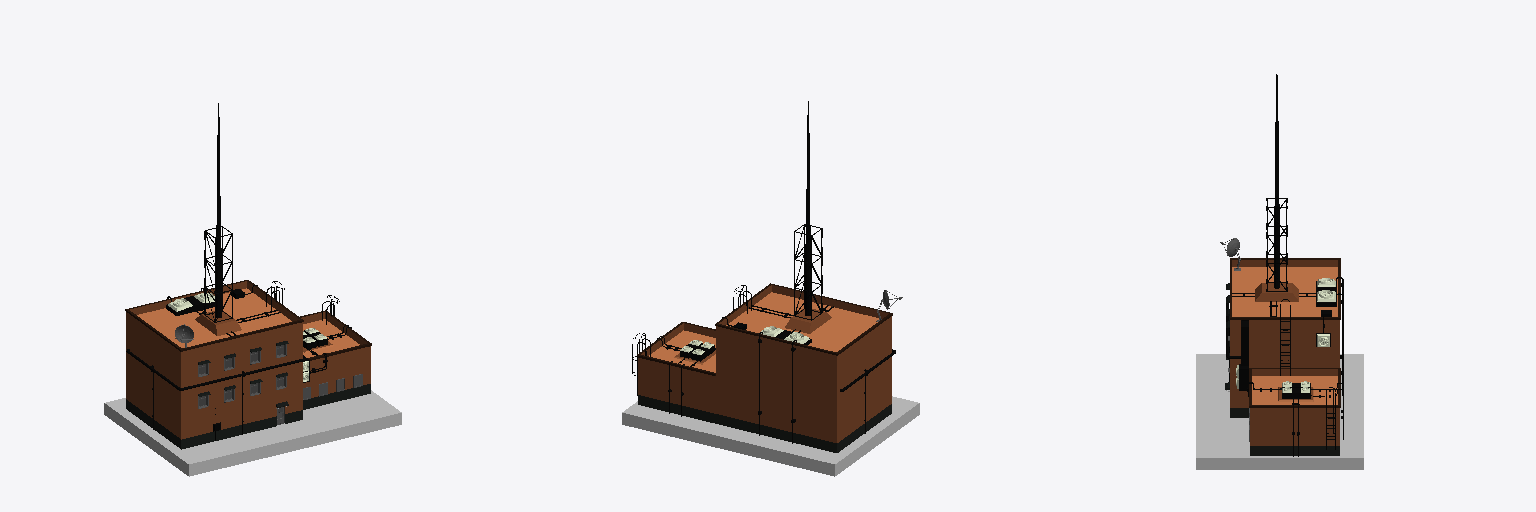
Rendered from edificiofuturista.obj.
3 views of the same model, side by side, from view 1: azimuth 30°, elevation 25°; view 2: azimuth 150°, elevation 25°; view 3: azimuth 270°, elevation 25° (orthographic).
Visible parts, largest first — view 1: Plane, Plane.020, Plane.022; view 2: Plane, Plane.020, Plane.022; view 3: Plane, Plane.020, Plane.022.
Boxes of the visible parts, x1=… form: Plane: x1=125, y1=280, x2=371, y2=449; Plane.020: x1=104, y1=390, x2=401, y2=476; Plane.022: x1=126, y1=103, x2=351, y2=440; Plane: x1=637, y1=283, x2=892, y2=452; Plane.020: x1=622, y1=396, x2=919, y2=476; Plane.022: x1=656, y1=101, x2=895, y2=443; Plane: x1=1225, y1=258, x2=1340, y2=455; Plane.020: x1=1196, y1=354, x2=1363, y2=469; Plane.022: x1=1226, y1=74, x2=1343, y2=456.
Size of the model in its own units: 25.22 by 35.96 by 16.84.